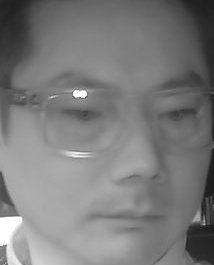eye: (61, 104, 101, 128), (157, 104, 196, 126)
glass: (44, 90, 127, 156), (147, 88, 212, 154)
mouth: (91, 195, 167, 244)
